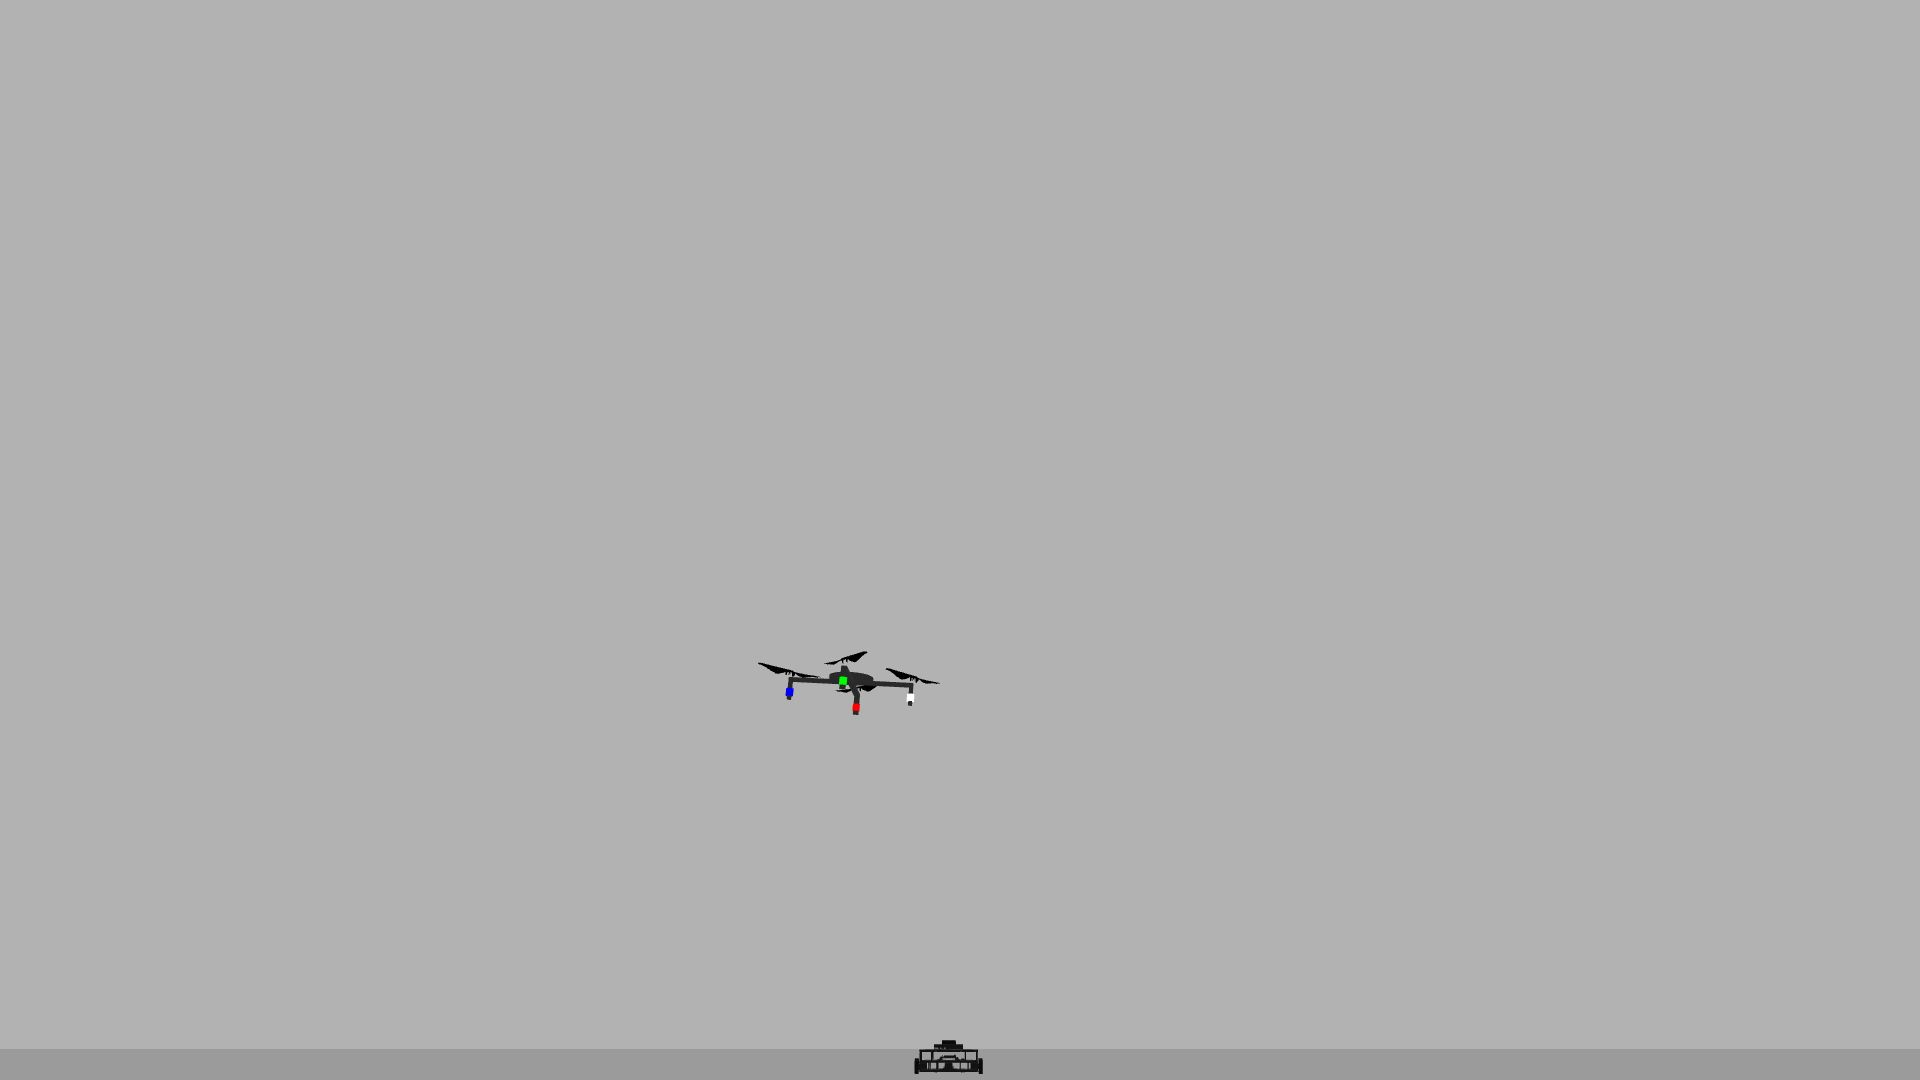drone: (736, 601, 953, 753)
